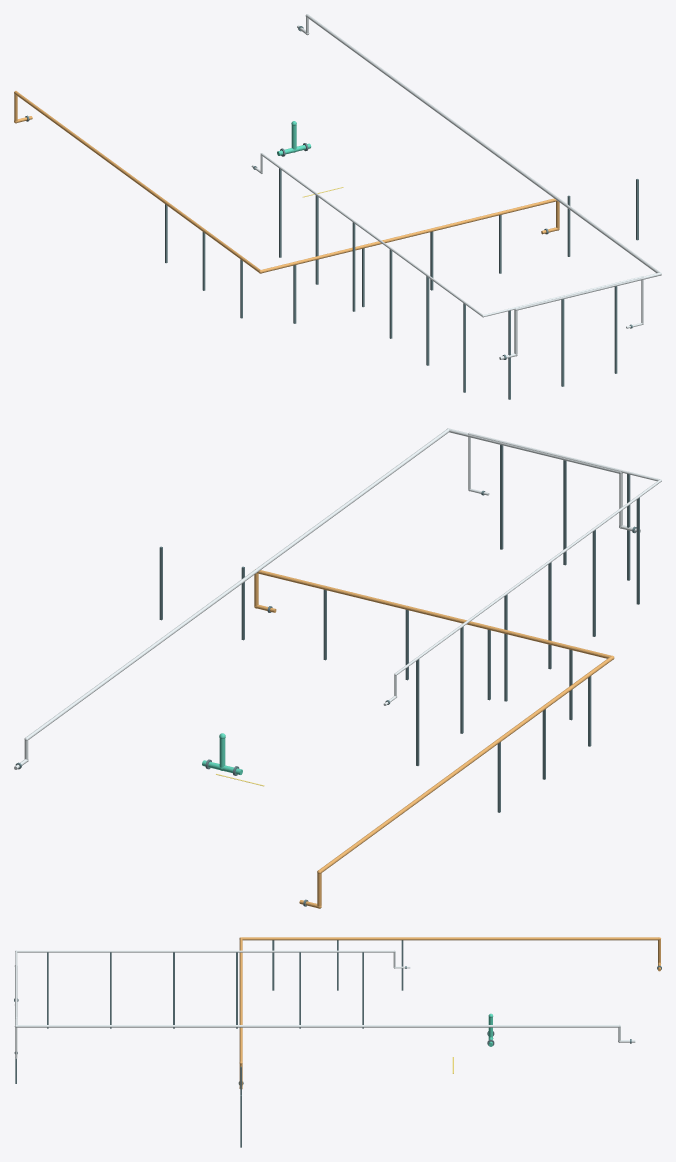
The picture shows the model from 3 angles, top to bottom: view 1: azimuth 30°, elevation 25°; view 2: azimuth 150°, elevation 25°; view 3: azimuth 270°, elevation 25°; orthographic projection. The views are drawn at different scales.
Parts seen in each view (by area): view 1: render-batch-1, render-batch-2, render-batch-3; view 2: render-batch-1, render-batch-2, render-batch-3; view 3: render-batch-2, render-batch-3, render-batch-1.
Part boxes in pixels (x1=…): render-batch-1: x1=25, y1=26, x2=638, y2=399; render-batch-2: x1=251, y1=14, x2=661, y2=359; render-batch-3: x1=14, y1=91, x2=559, y2=273; render-batch-1: x1=15, y1=445, x2=639, y2=906; render-batch-2: x1=14, y1=428, x2=661, y2=769; render-batch-3: x1=254, y1=569, x2=614, y2=908; render-batch-2: x1=14, y1=950, x2=635, y2=1058; render-batch-3: x1=239, y1=937, x2=660, y2=1088; render-batch-1: x1=14, y1=940, x2=661, y2=1147.
Size of the model in its own units: 30 by 6.86 by 51.88.
